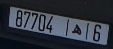0: (39, 14, 46, 31)
4: (46, 16, 55, 33)
6: (93, 25, 101, 41)
7: (23, 11, 31, 29), (31, 12, 38, 30)
8: (15, 9, 23, 28)
h: (71, 23, 82, 35)
